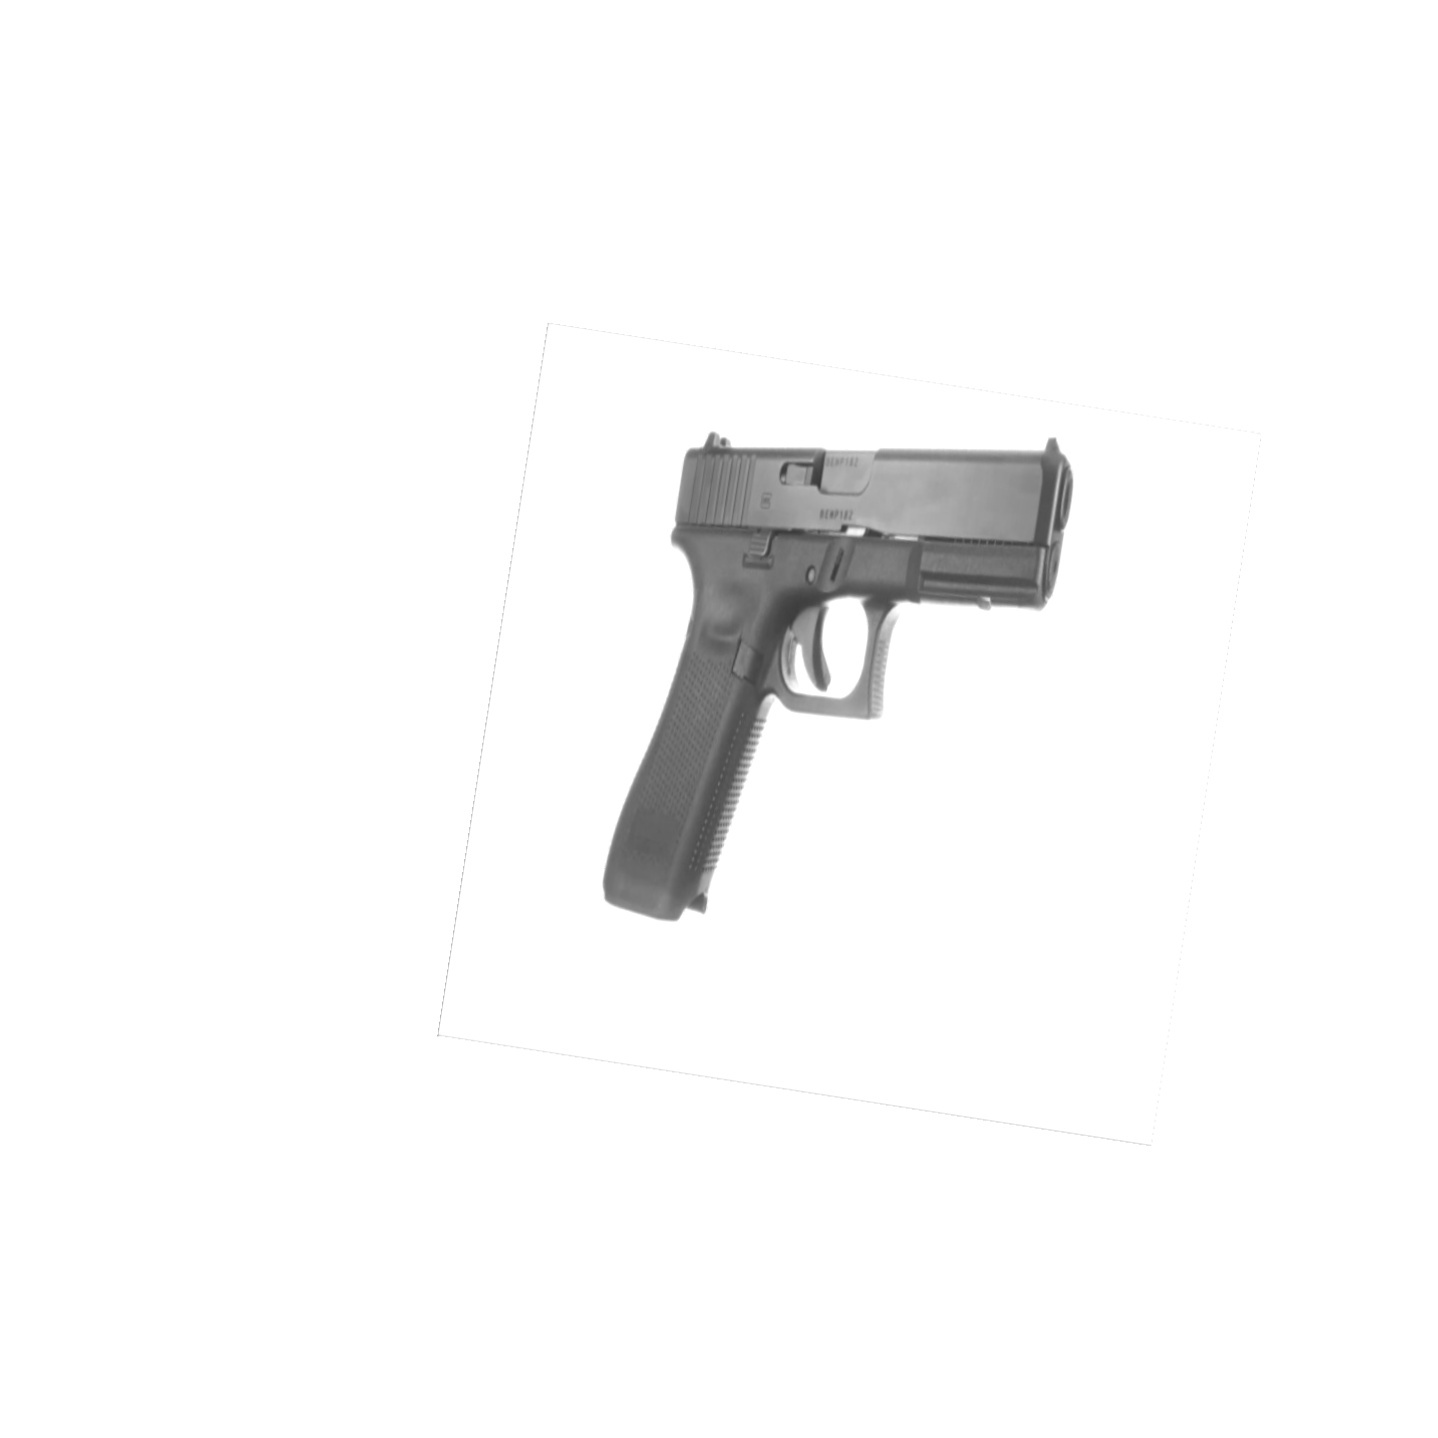gun: (600, 427, 1080, 934)
